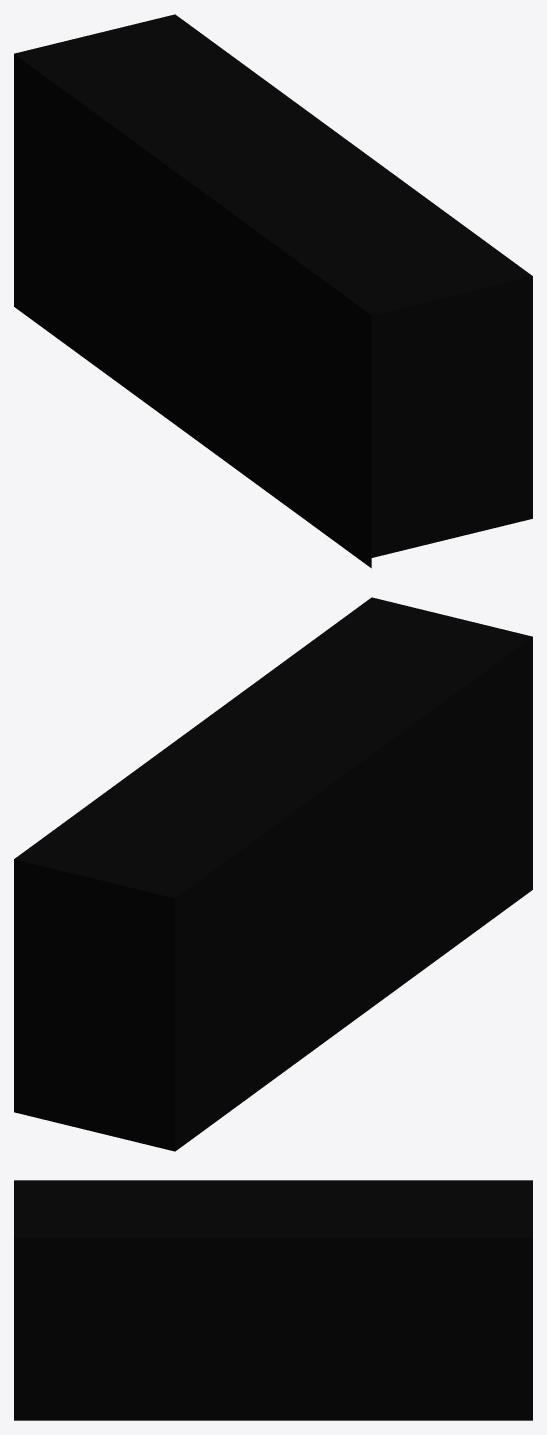
The picture shows the model from 3 angles, top to bottom: view 1: azimuth 30°, elevation 25°; view 2: azimuth 150°, elevation 25°; view 3: azimuth 270°, elevation 25°; orthographic projection. The views are drawn at different scales.
Visible parts, largest first — view 1: Joint_0_Object_0, Joint_0_Object_1; view 2: Joint_0_Object_0, Joint_0_Object_1; view 3: Joint_0_Object_0, Joint_0_Object_1.
Part boxes in pixels (x1=…): Joint_0_Object_0: x1=14, y1=54, x2=532, y2=568; Joint_0_Object_1: x1=14, y1=14, x2=532, y2=315; Joint_0_Object_0: x1=14, y1=637, x2=532, y2=1151; Joint_0_Object_1: x1=14, y1=597, x2=532, y2=898; Joint_0_Object_0: x1=14, y1=1237, x2=532, y2=1420; Joint_0_Object_1: x1=14, y1=1180, x2=532, y2=1237.
Size of the model in its own units: 400 by 600 by 1538.
2 materials, 2 textured.
